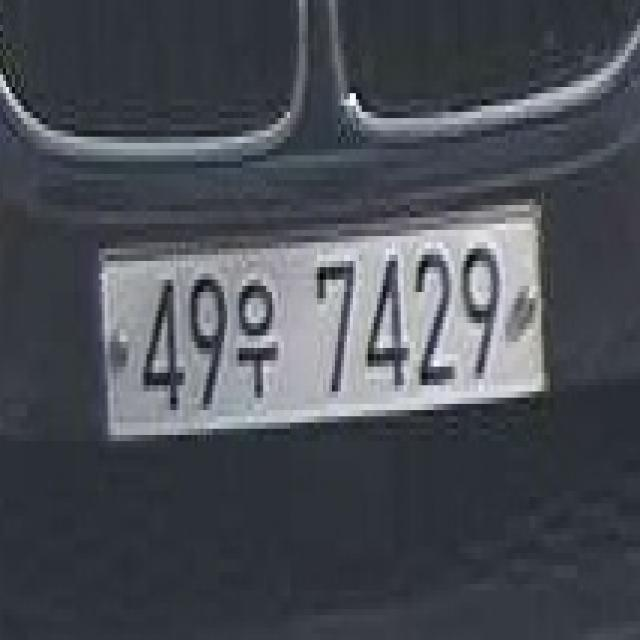2: (412, 243, 457, 390)
4: (138, 276, 185, 412), (366, 249, 409, 392)
7: (312, 252, 359, 397)
9: (462, 231, 506, 385), (189, 266, 229, 414)
license_plate: (80, 189, 557, 449)
u: (235, 267, 283, 405)
